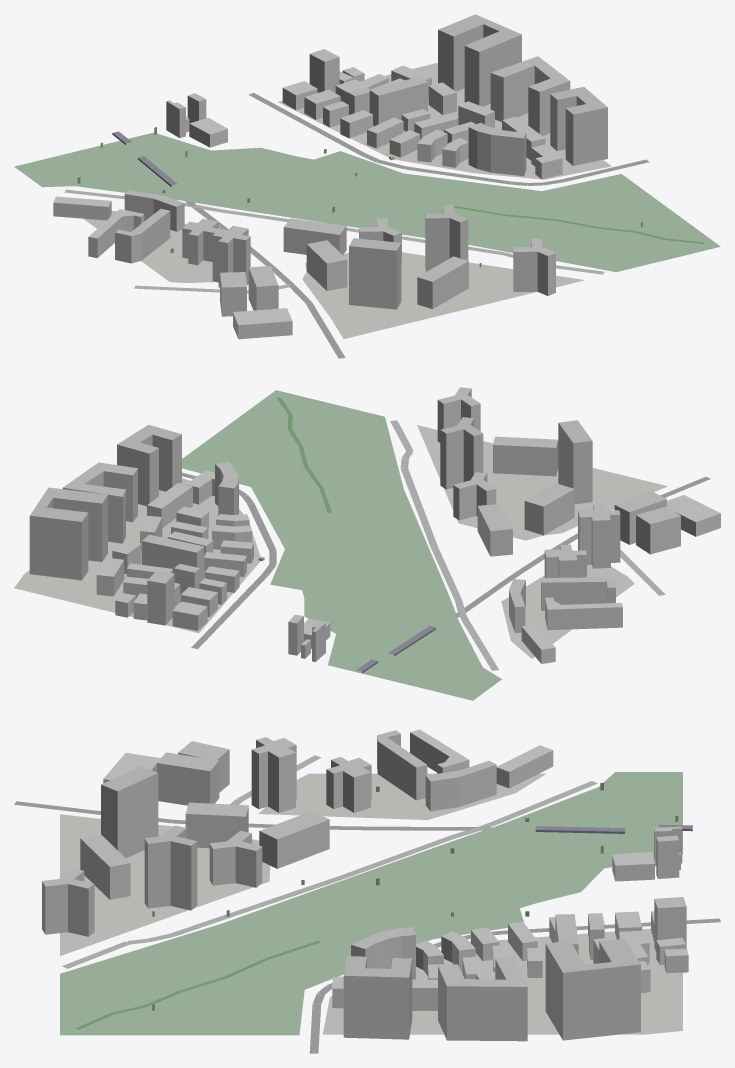
3 views of the same model, one above another, from view 1: azimuth 30°, elevation 25°; view 2: azimuth 150°, elevation 25°; view 3: azimuth 270°, elevation 25° (orthographic). The views are drawn at different scales.
Bounding box in the file's own units: 575 × 64.49 × 567.
